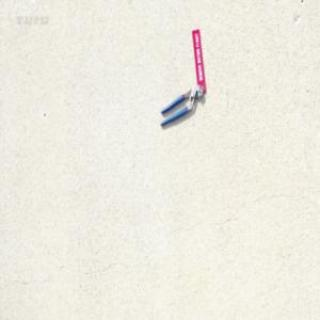LuggageTagtrack_idkeyframe: (190, 28, 206, 92)
Pliertrack_idkeyframe: (159, 83, 203, 127)
